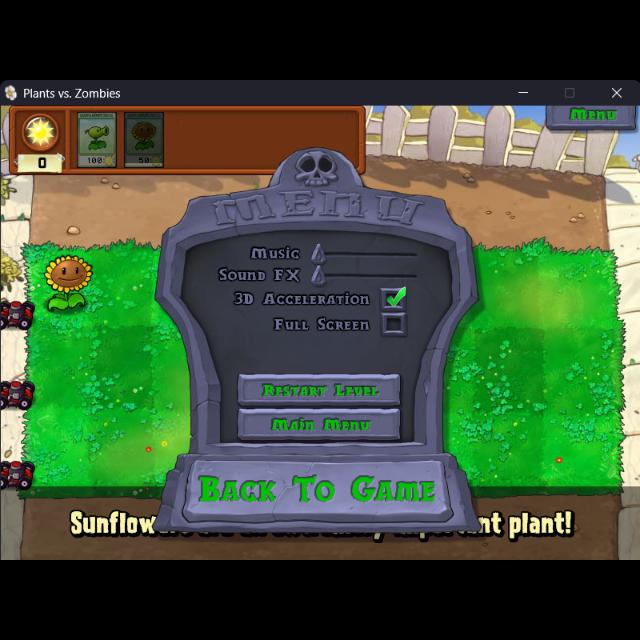BTG Button: (184, 458, 454, 524)
Garden: (19, 240, 625, 502)
Main Menu Button: (238, 408, 400, 440)
Menu Button: (544, 105, 638, 132)
Mower: (0, 376, 38, 412), (0, 295, 36, 331), (0, 458, 36, 490)
Pause Menu: (152, 143, 482, 535)
Peashooter: (75, 110, 118, 168)
Restart Level Button: (238, 374, 400, 404)
Seed Panel: (7, 104, 367, 178)
Sunflower: (120, 107, 168, 169)
Sunflower Seed: (41, 251, 94, 315)
